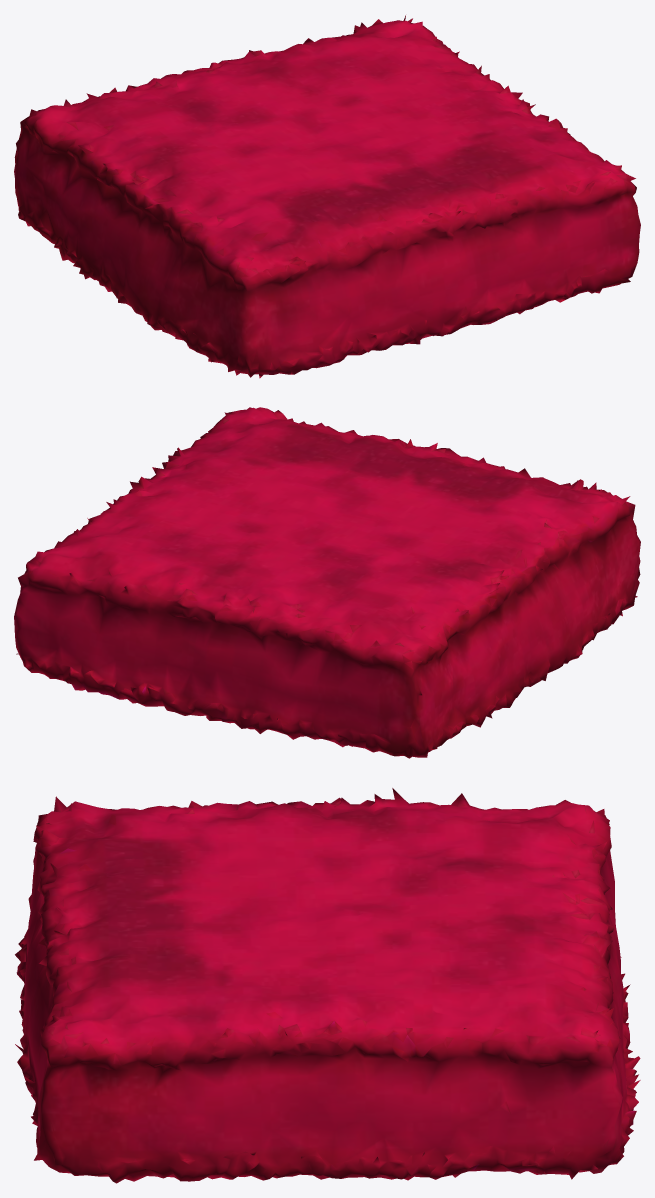
The model's file is Red_square_rug.glb.
The picture shows the model from 3 angles, top to bottom: view 1: azimuth 30°, elevation 25°; view 2: azimuth 150°, elevation 25°; view 3: azimuth 270°, elevation 25°; orthographic projection. The views are drawn at different scales.
Visible parts, largest first — view 1: Mesh_0; view 2: Mesh_0; view 3: Mesh_0.
Boxes of the visible parts, x1=… form: Mesh_0: x1=14, y1=15, x2=640, y2=378; Mesh_0: x1=14, y1=407, x2=640, y2=758; Mesh_0: x1=15, y1=788, x2=640, y2=1183.
Size of the model in its own units: 1.83 by 0.5044 by 1.82.
1 material, 1 textured.
